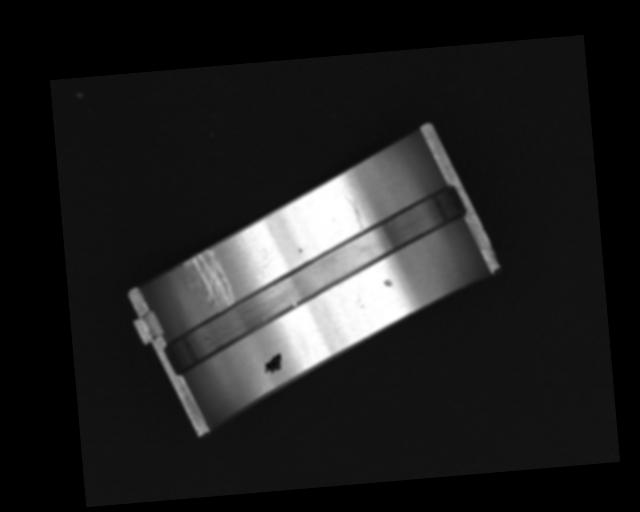blot: (261, 351, 284, 374)
bruise: (383, 278, 393, 286), (297, 248, 302, 254)
gap: (155, 183, 479, 375)
nick: (343, 191, 364, 233)
scratch: (182, 248, 234, 311)
